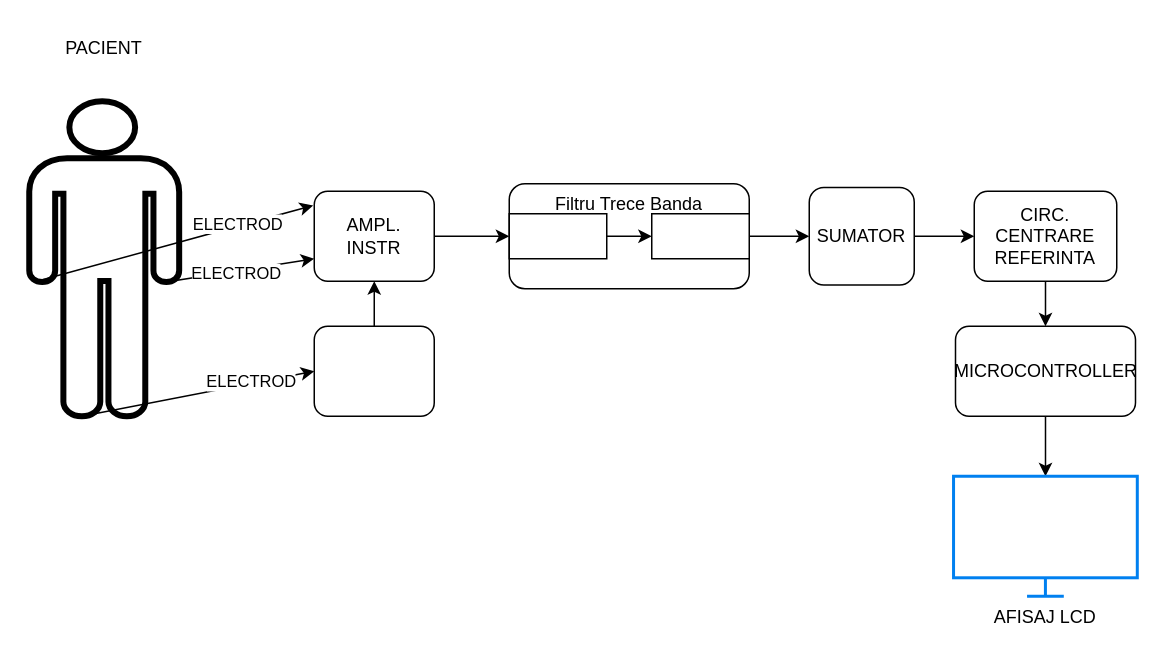
Some shapes in this 1164 by 653 pixel diagram are drawn without their labels. Here are the shapes that lost their labels. From the top down, the centre of each, then its label:
the point at 557,235: FTS
the point at 699,235: FTJ
the point at 373,370: CIRCUIT RLD
